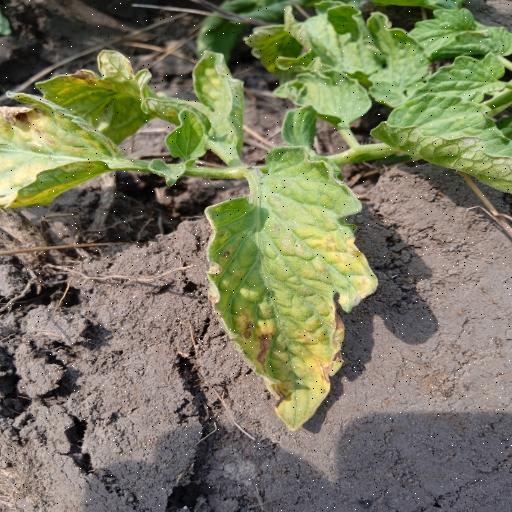Tomato_Brown_Spots: (199, 156, 380, 436)
